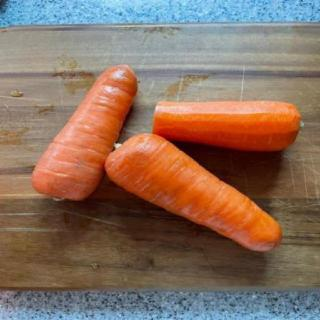carrot: (98, 130, 286, 256), (26, 61, 136, 209), (148, 100, 306, 154)
